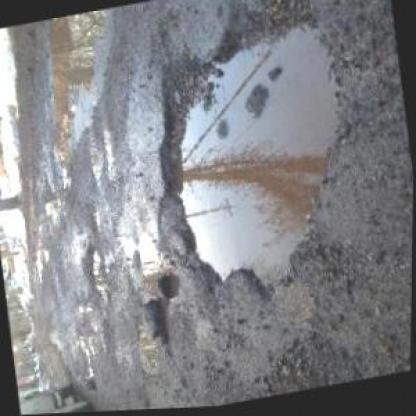pothole: (132, 0, 363, 318), (134, 327, 161, 379), (82, 245, 109, 296), (132, 231, 159, 278)
